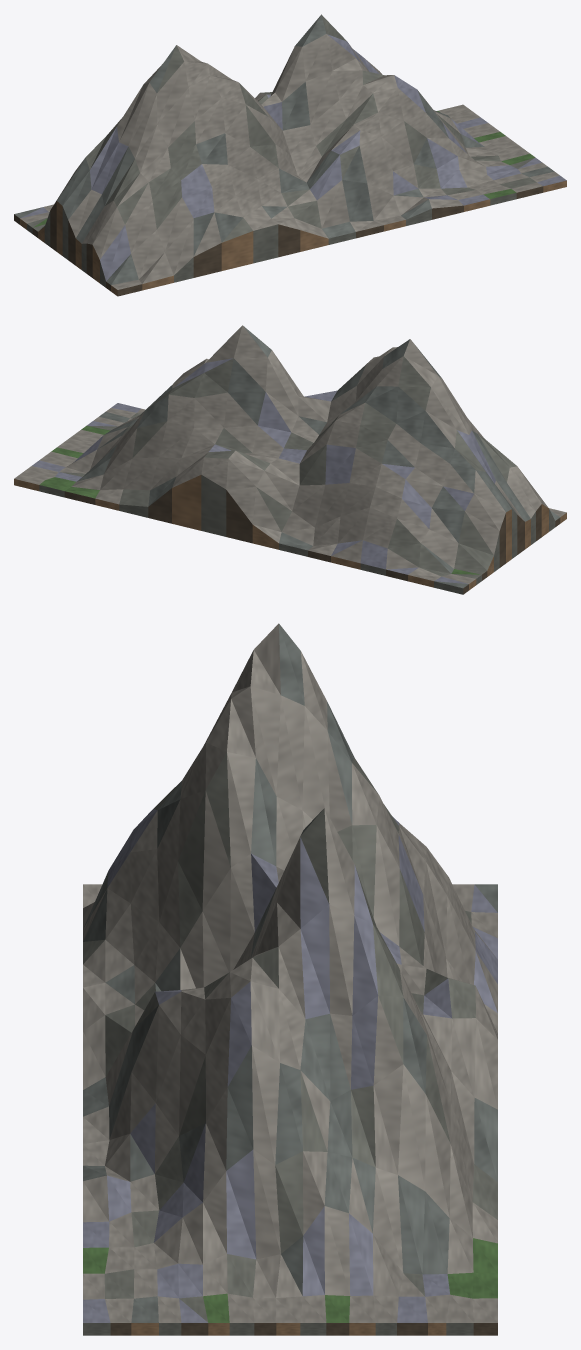
The model's file is mountain_far_02.fbx.
3 views of the same model, one above another, from view 1: azimuth 30°, elevation 25°; view 2: azimuth 150°, elevation 25°; view 3: azimuth 270°, elevation 25° (orthographic). The views are drawn at different scales.
Parts seen in each view (by area): view 1: mountain_far_02; view 2: mountain_far_02; view 3: mountain_far_02.
Part boxes in pixels (<box>): mountain_far_02: <box>14,14,566,296</box>; mountain_far_02: <box>14,325,566,594</box>; mountain_far_02: <box>83,623,497,1335</box>.
Size of the model in its own units: 15000 by 6050 by 6000.
1 material, 1 textured.
